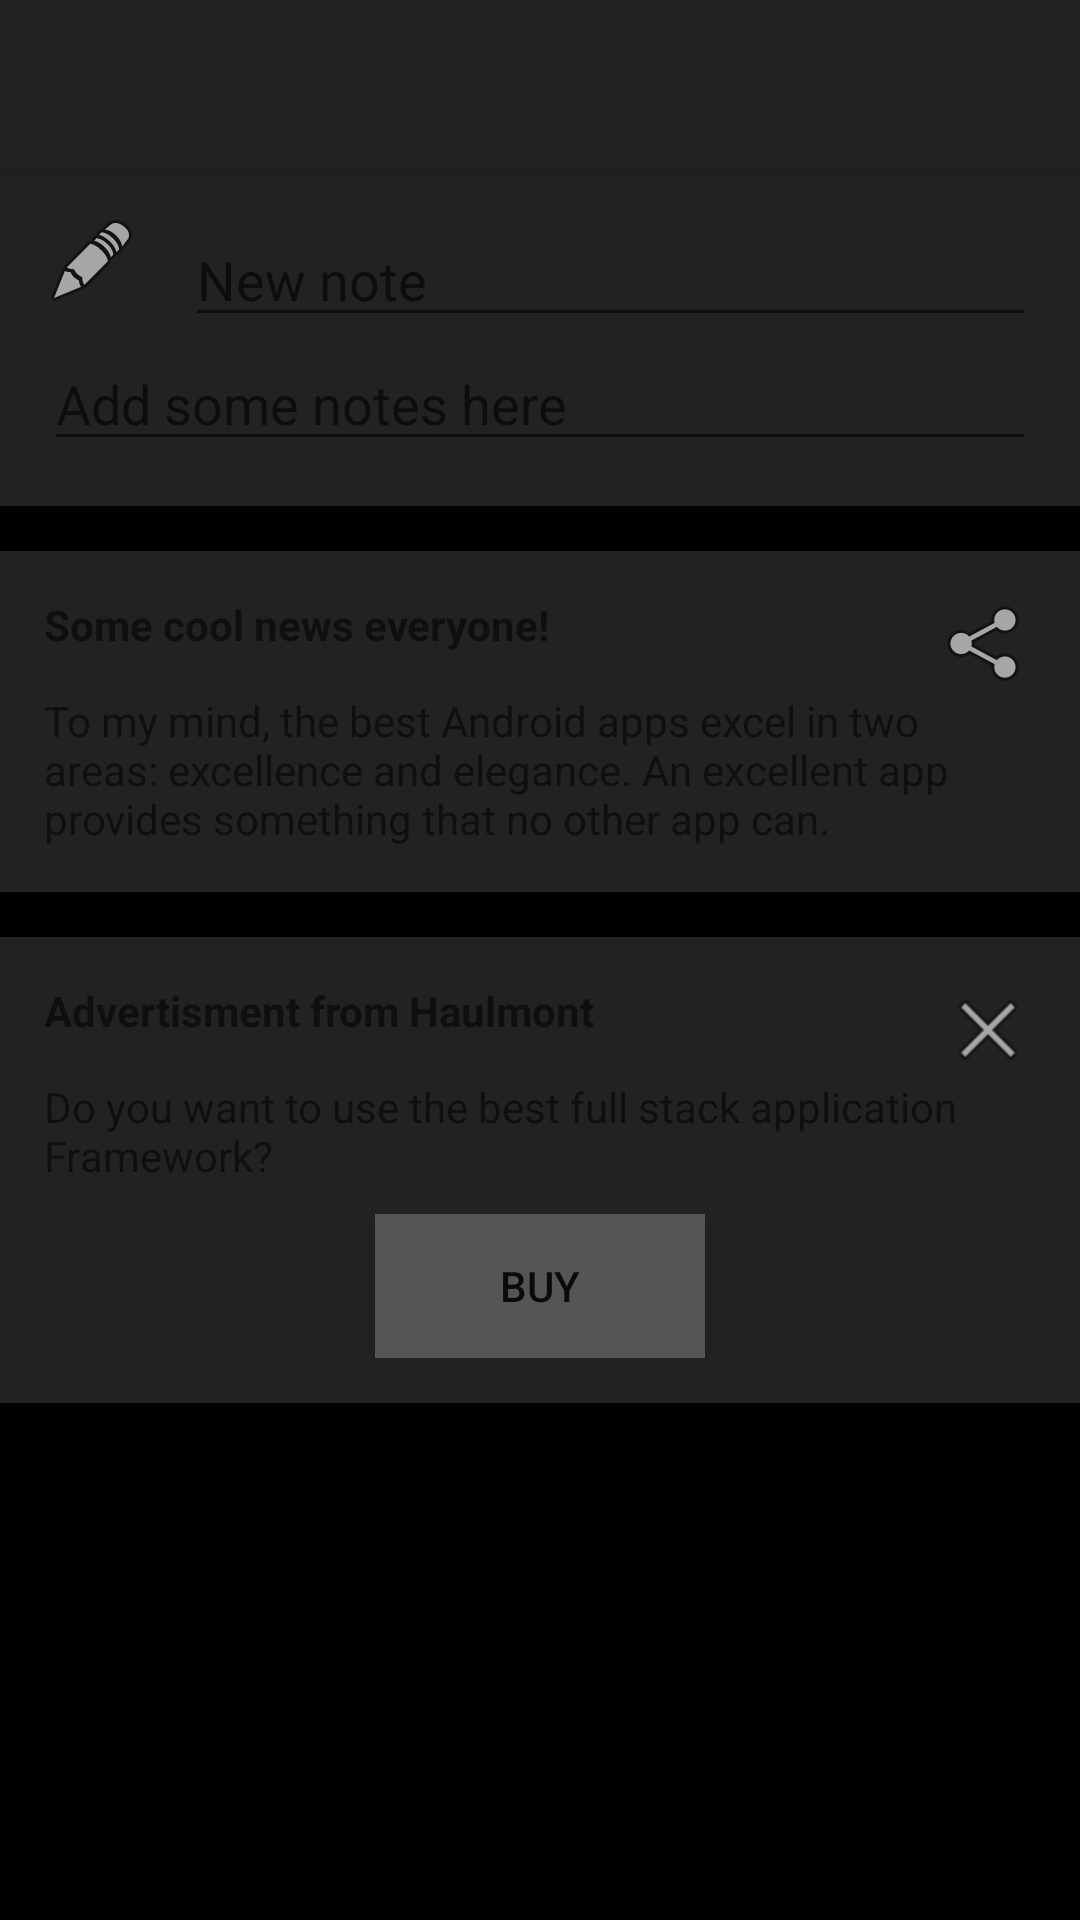

Icons on this 1080px x 1920px Android screen, each with the point to tap as (x,y):
close clear cancel: (988,1030)
edit: (91,260)
share: (983,643)
